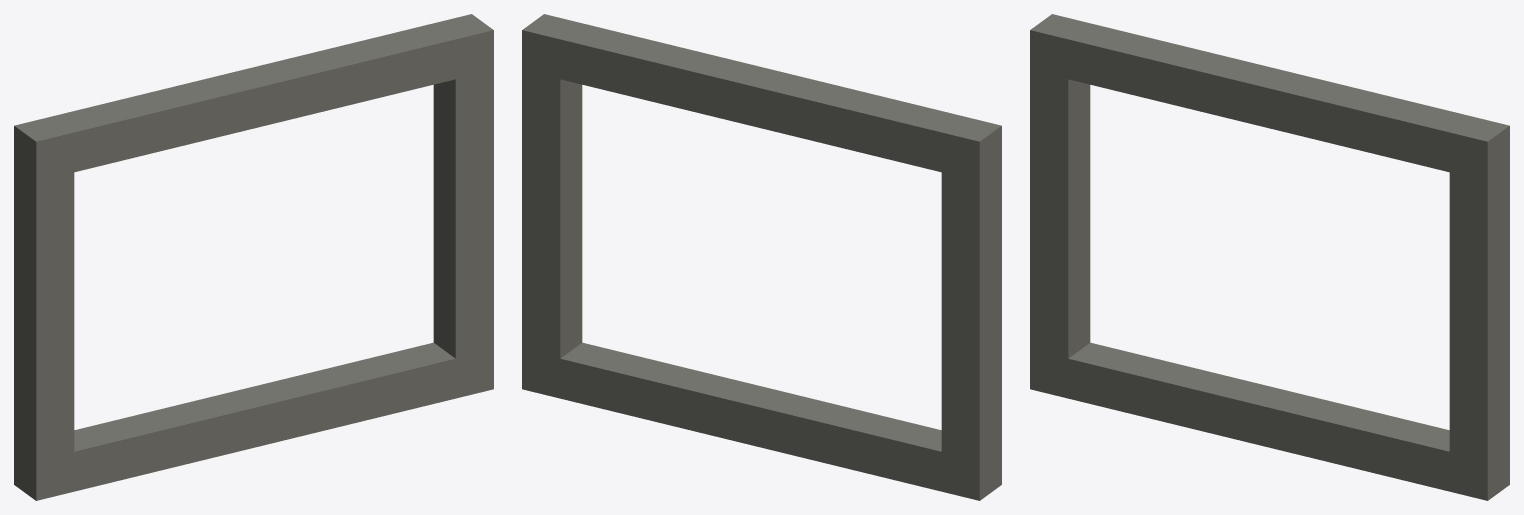
The model's file is church-2-cata_wallhanging2.obj.
3 renders of one model, left to right at view 1: azimuth 30°, elevation 25°; view 2: azimuth 150°, elevation 25°; view 3: azimuth 330°, elevation 25°, orthographic.
Visible parts, largest first — view 1: cata_wallhanging2; view 2: cata_wallhanging2; view 3: cata_wallhanging2.
Boxes of the visible parts, left/top/right/bottom form: cata_wallhanging2: left=14, top=14, right=493, bottom=500; cata_wallhanging2: left=522, top=14, right=1001, bottom=500; cata_wallhanging2: left=1030, top=14, right=1509, bottom=500.
Bounding box in the file's own units: 1.2 × 0.9 × 0.1.
Materials: 1 (1 with a texture image).
